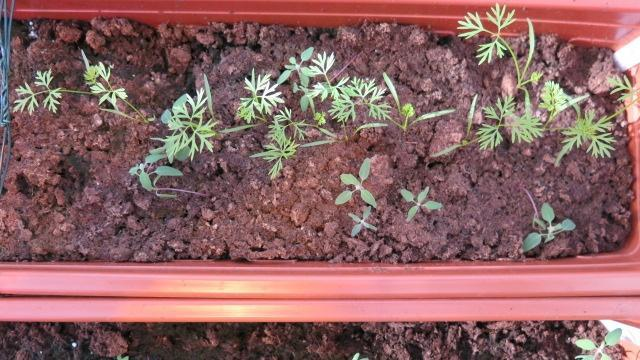weed: (393, 183, 445, 222)
